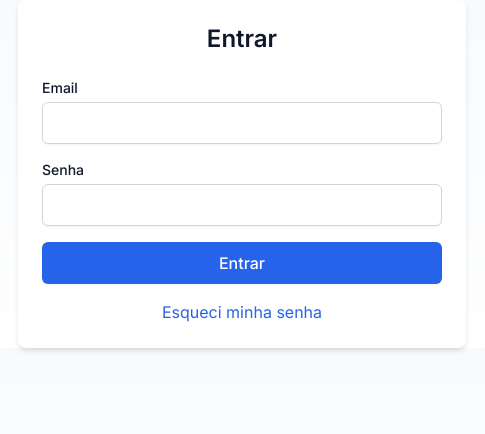
Test: AuthForm › Login Mode › should handle login error
In the field labelled "Email": (242, 123) left=42, top=102, right=442, bottom=144, type "test@example.com"
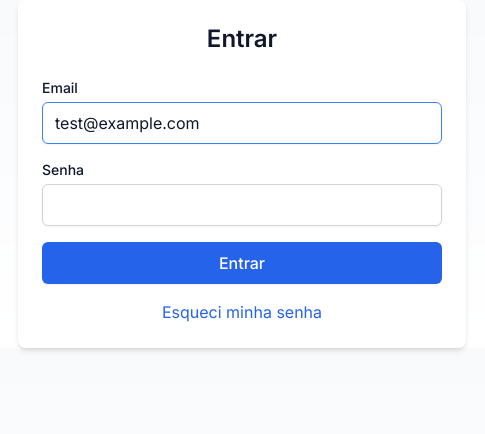
In the password field labelled "Senha": (242, 205) left=42, top=184, right=442, bottom=226, type "wrongpassword"
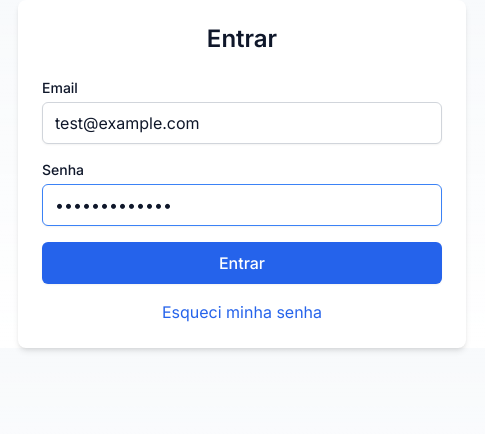
Click the button "Entrar": (242, 263) left=42, top=242, right=442, bottom=284
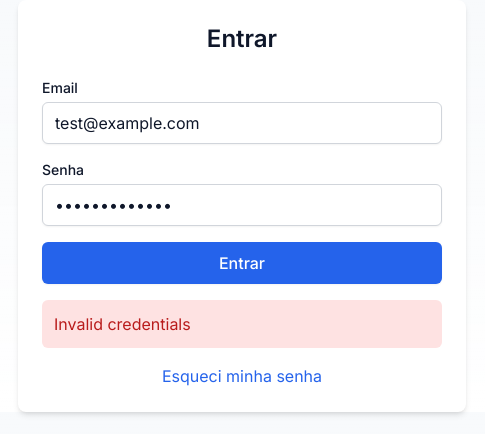
Result: the text "Invalid credentials" is shown at left=42, top=300, right=442, bottom=348
